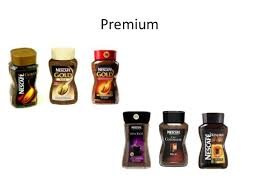nescafe-classic/gold-med: (6, 48, 42, 109), (196, 113, 230, 165)
